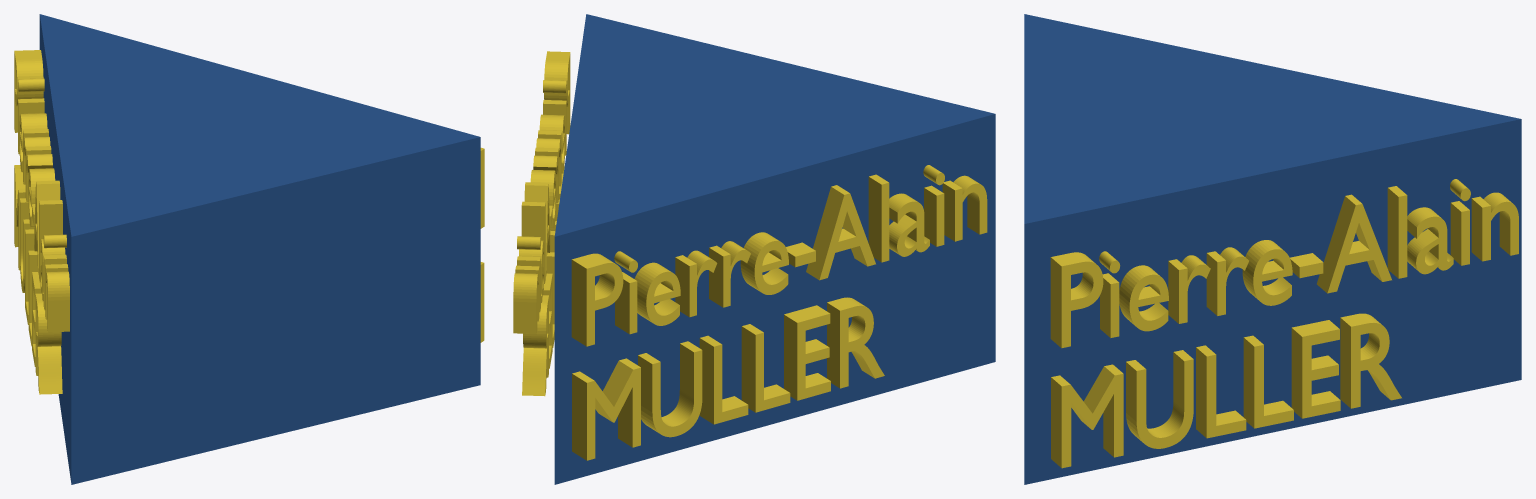
Rendered from Pierre-Alain_MULLER.fbx.
The picture shows the model from 3 angles, left to right: view 1: azimuth 30°, elevation 25°; view 2: azimuth 150°, elevation 25°; view 3: azimuth 270°, elevation 25°; orthographic projection. The views are drawn at different scales.
Parts seen in each view (by area): view 1: Cube, Text.001, Text; view 2: Cube, Text.001, Text; view 3: Cube, Text.
Part boxes in pixels (bbox=[...]): Cube: bbox=[39, 14, 480, 484]; Text.001: bbox=[14, 50, 69, 394]; Text: bbox=[480, 147, 484, 342]; Cube: bbox=[554, 14, 995, 484]; Text.001: bbox=[571, 165, 987, 460]; Text: bbox=[513, 51, 570, 396]; Cube: bbox=[1024, 14, 1521, 484]; Text: bbox=[1050, 179, 1518, 468].
Size of the model in its own units: 67.86 by 36.7 by 63.36.
